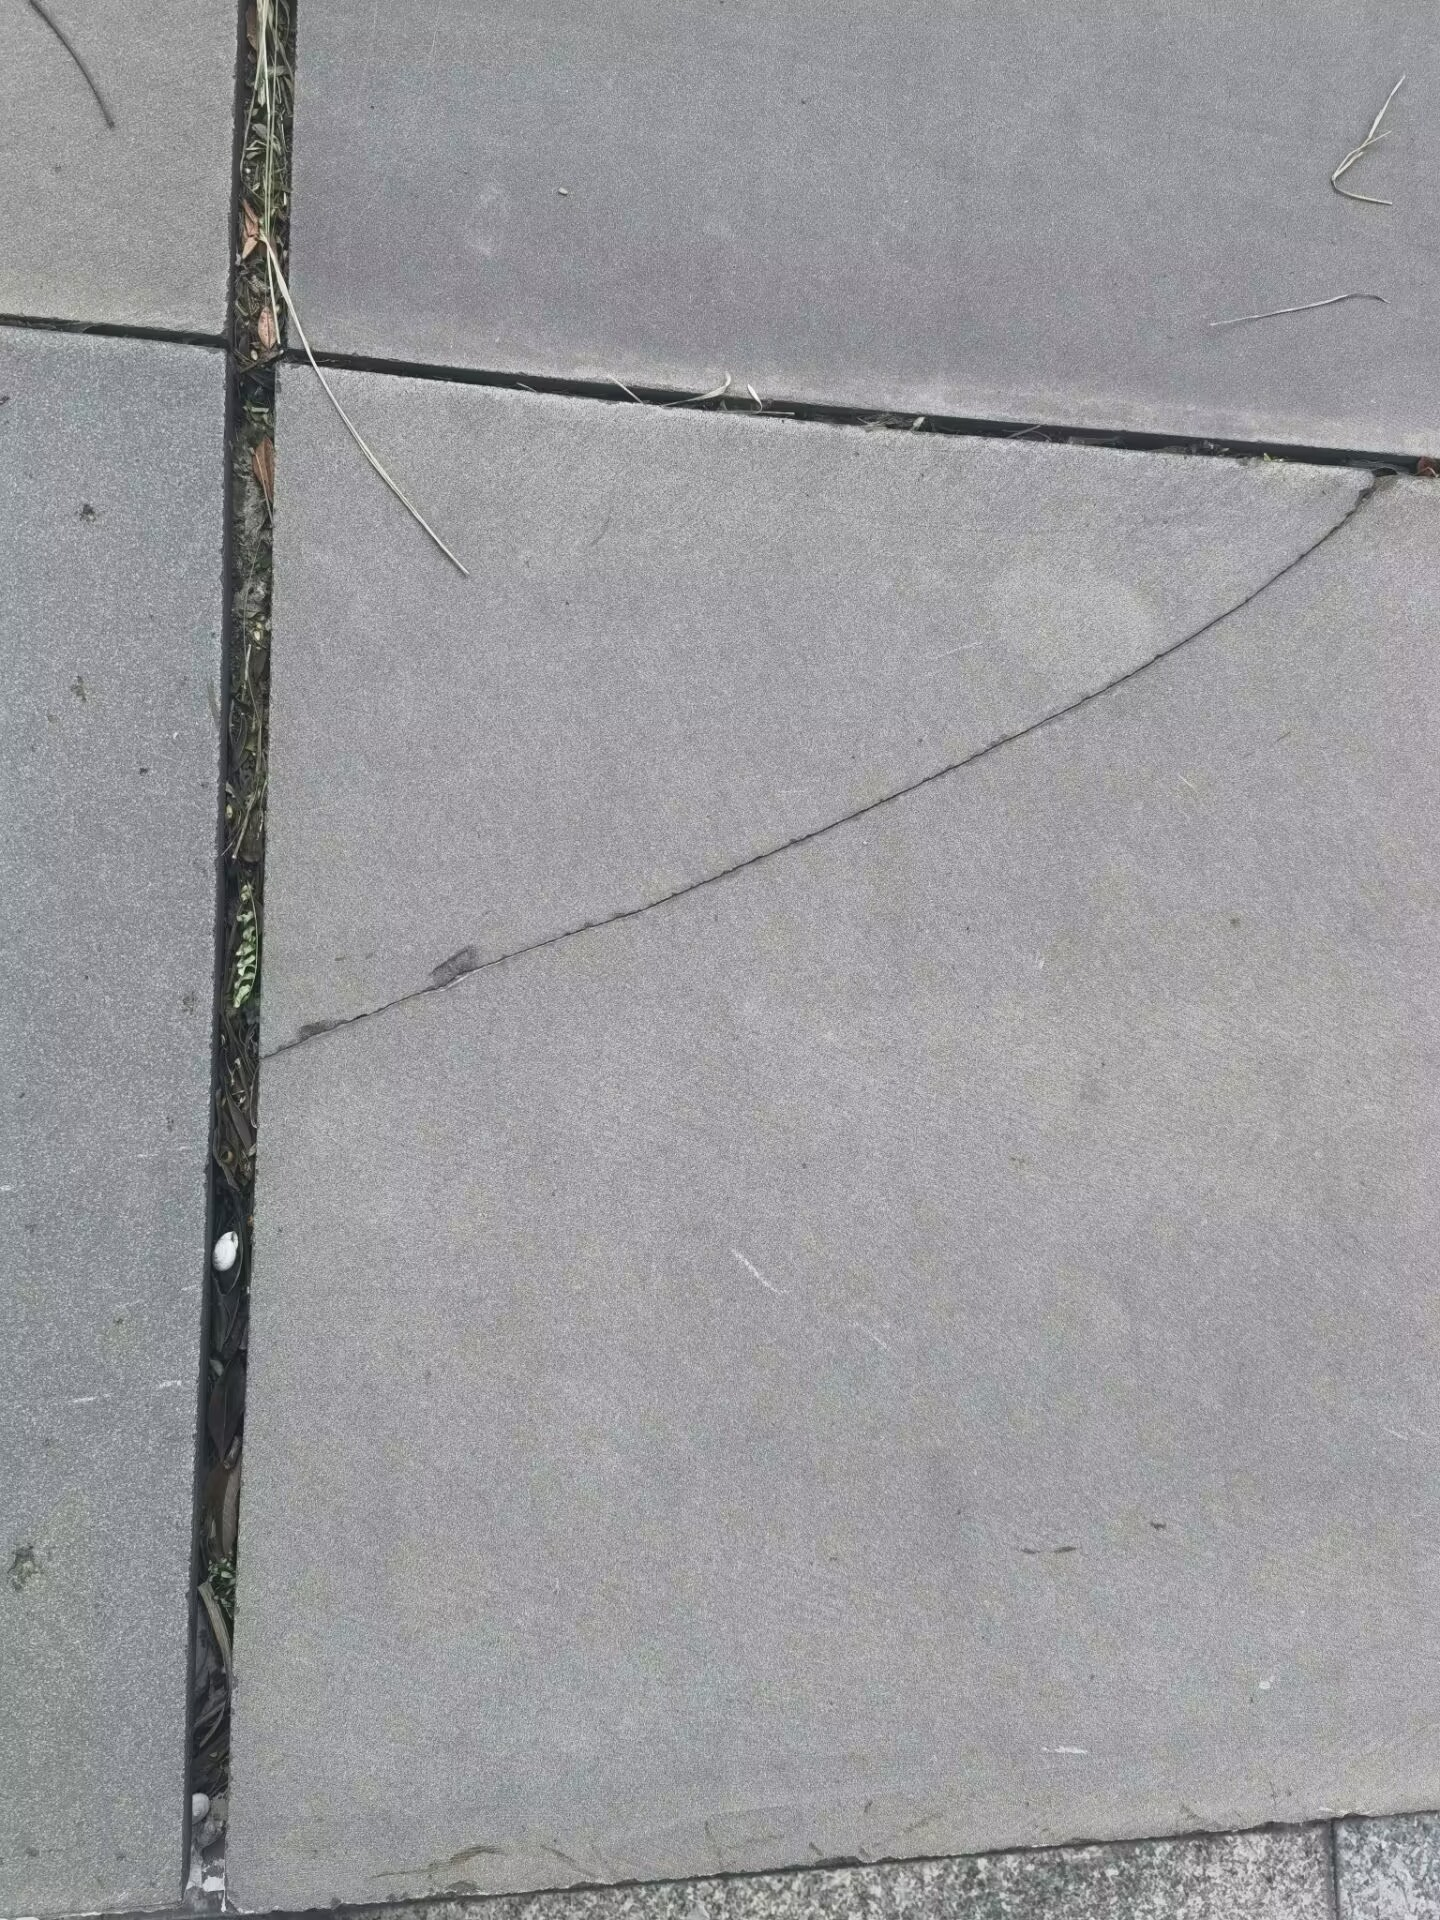TILE: (263, 461, 1399, 1066)
